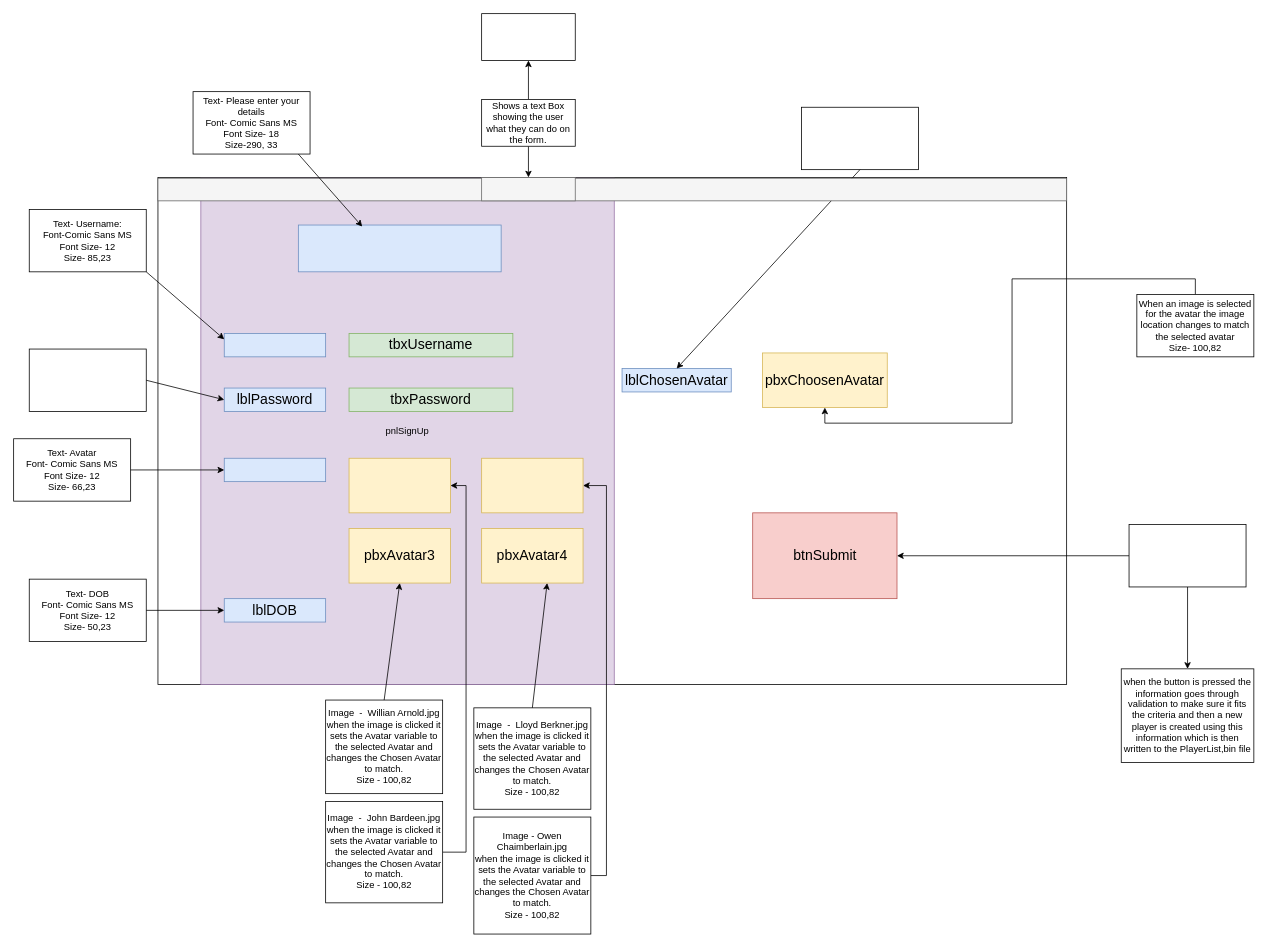
This 1268x948 diagram has some shape labels left out. The centre of each missing label's shape, as x and y in pixels:
btnHelp: the point at 528,189
lblAvatar: the point at 274,469
lblLoginHeading: the point at 399,248
lblUsername: the point at 274,345
pbxAvatar1: the point at 399,485
pbxAvatar2: the point at 532,485
Text -Submit Font- Comic Sans MS Font Size - 12 Size -133,48: the point at 1187,555
Text- Chosen Avatar Font- Comic Sans MS Font Size- 12 Size- 120,23: the point at 859,138
Text- Help Font- Comic Sans MS Font Size- 12: the point at 528,36
Text- Password: Font- Comic Sans MS Font Size- 12 Size- 81,23: the point at 87,379
